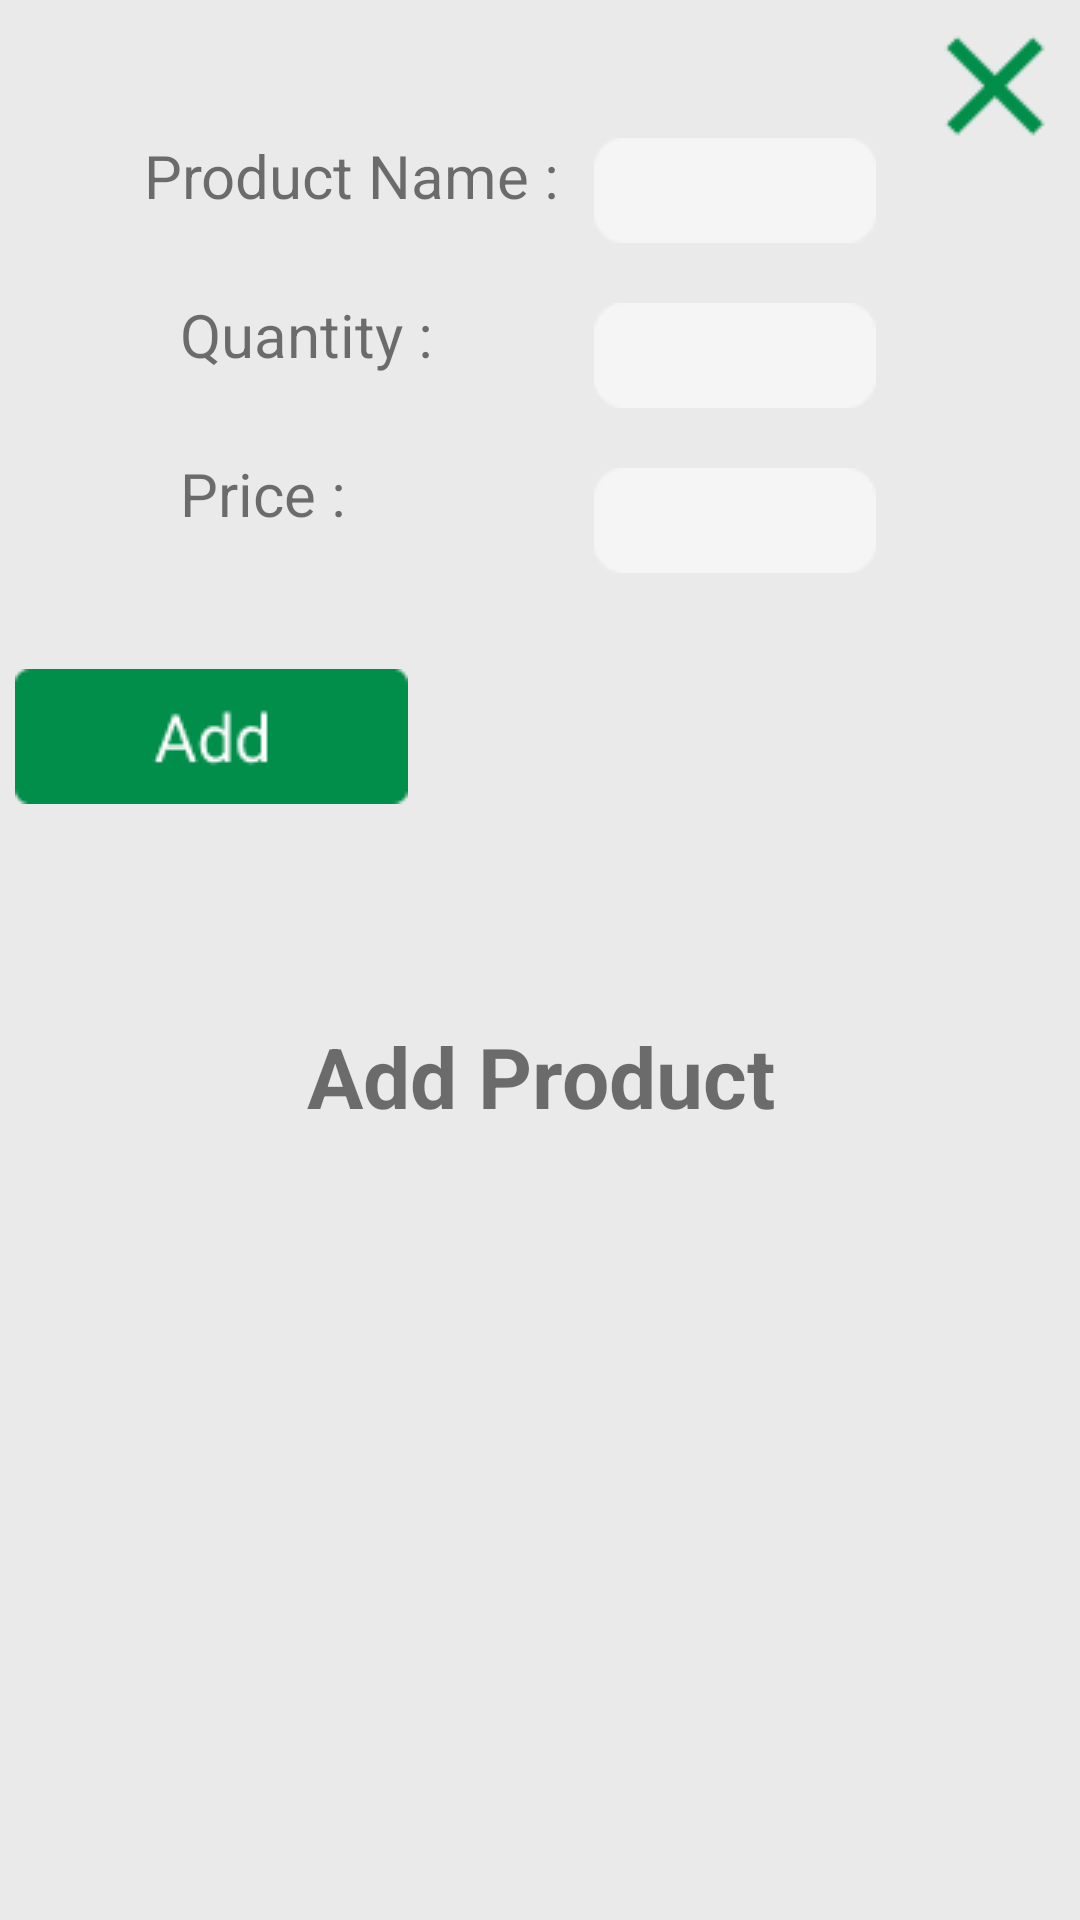

Where to tap for icons on this 1080 × 1920 app screen, as point (x, y):
cross: point (995, 86)
